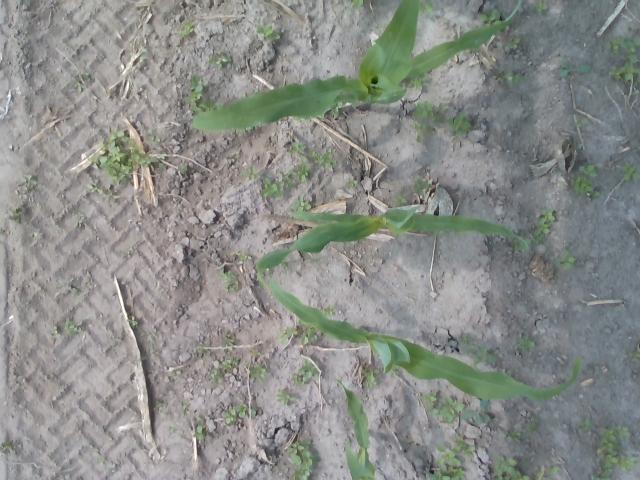Maize: (184, 0, 525, 131), (266, 267, 582, 402), (255, 204, 530, 293), (332, 378, 378, 480)
Weeds: (89, 128, 142, 185), (591, 425, 637, 480), (286, 439, 321, 480), (428, 444, 466, 480), (492, 454, 532, 480), (280, 156, 310, 190), (184, 73, 208, 115), (426, 396, 464, 422), (610, 54, 640, 86), (532, 208, 555, 242), (293, 358, 319, 386), (570, 174, 600, 198), (557, 58, 592, 78), (462, 400, 491, 424), (604, 36, 640, 54), (478, 7, 502, 34), (444, 113, 471, 136), (310, 146, 338, 168), (467, 345, 496, 366), (222, 403, 248, 426), (260, 176, 284, 200), (454, 432, 476, 458), (298, 319, 320, 345), (402, 72, 430, 92), (409, 123, 436, 142), (254, 23, 282, 41), (552, 250, 576, 270), (247, 361, 270, 381), (411, 100, 433, 120), (276, 325, 297, 345), (207, 50, 230, 68), (620, 162, 640, 182), (192, 416, 208, 440), (512, 235, 532, 254), (412, 175, 432, 194), (143, 154, 166, 170), (64, 317, 82, 337), (144, 126, 166, 142), (290, 196, 312, 212), (429, 102, 446, 122), (275, 388, 295, 405), (418, 0, 438, 16), (514, 334, 535, 349), (498, 71, 520, 85), (220, 266, 237, 284), (361, 369, 378, 387), (524, 418, 540, 436), (200, 98, 224, 110), (74, 73, 89, 92), (9, 205, 24, 224), (20, 174, 40, 188), (218, 358, 238, 372), (242, 165, 260, 180), (505, 428, 522, 443), (578, 164, 596, 178), (421, 392, 436, 408), (86, 184, 105, 196), (220, 332, 235, 347), (180, 20, 194, 36), (290, 140, 306, 154), (574, 116, 591, 128), (208, 368, 222, 382), (579, 418, 594, 431), (393, 193, 408, 206), (330, 100, 342, 116), (389, 365, 402, 378), (548, 464, 562, 476), (534, 0, 548, 12), (0, 439, 14, 451), (458, 334, 471, 346), (346, 177, 360, 188), (322, 305, 337, 315), (236, 125, 252, 134), (506, 38, 520, 48), (126, 316, 140, 326), (629, 348, 640, 360), (139, 48, 149, 61), (197, 344, 207, 357), (534, 470, 546, 480), (51, 326, 61, 338), (348, 0, 364, 7), (250, 406, 260, 416), (236, 252, 248, 260), (168, 370, 182, 376), (178, 166, 188, 173), (155, 400, 163, 408), (182, 402, 188, 409), (227, 285, 234, 291), (374, 22, 381, 28), (77, 211, 84, 216)
